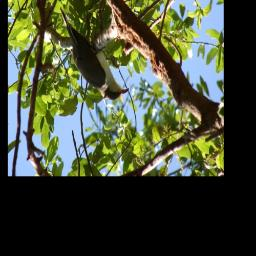Cuckoo: (61, 6, 130, 100)
